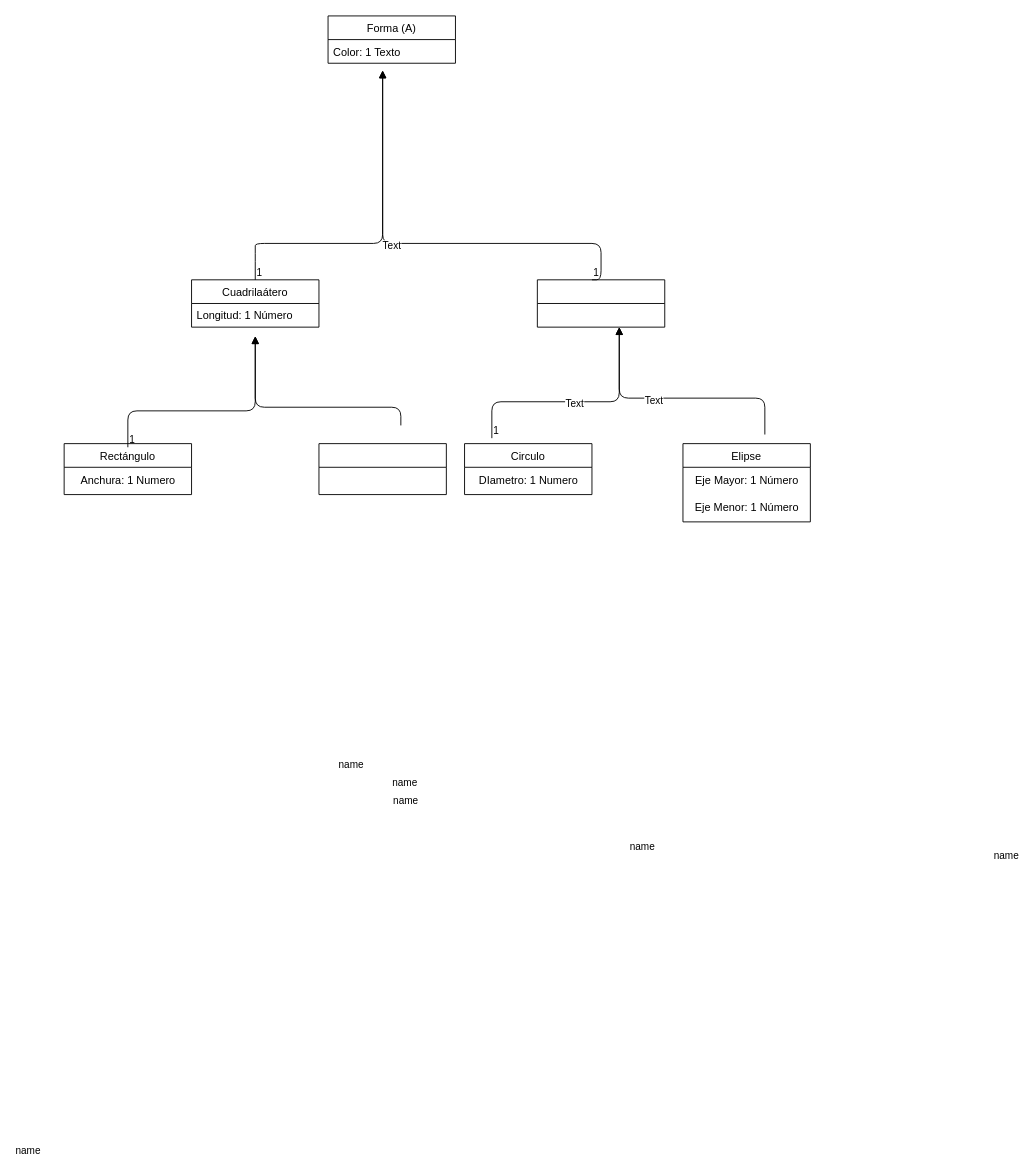
The diagram is 1035 pixels wide and 1173 high, and some of its shapes have lost their labels. Each missing label, with the centre of its shape:
"Cuadrado" belongs at pixel 382 469.
"Cónica" belongs at pixel 600 303.
